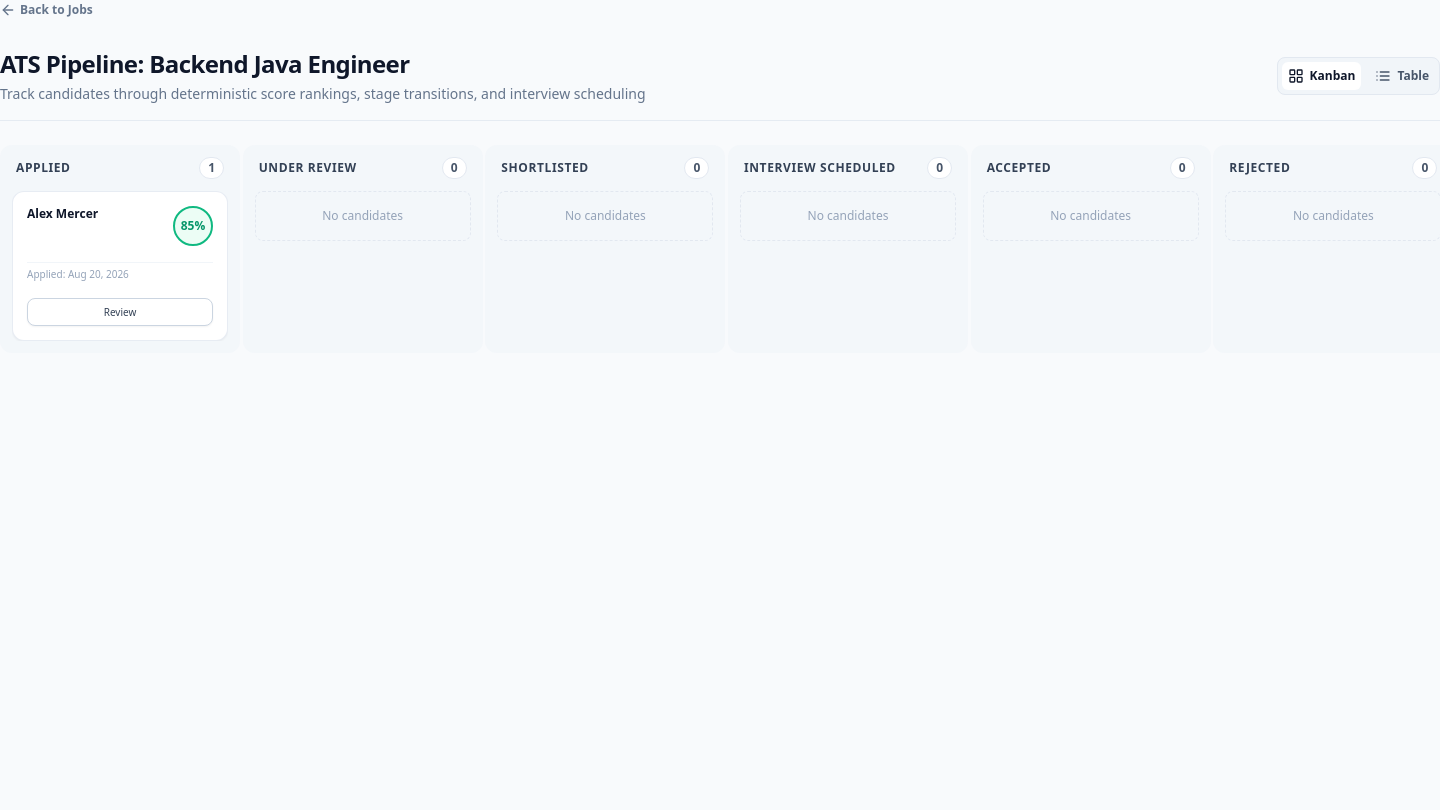
Test: Recruiter Dossier & Notes Workflow › opens dossier, enters internal note, saves successfully and persists on reopen
The width and height of the screenshot is (1440, 810).
Open Dossier by clicking the candidate card
Click the heading "Alex Mercer": (63, 214) [27,206,98,222]
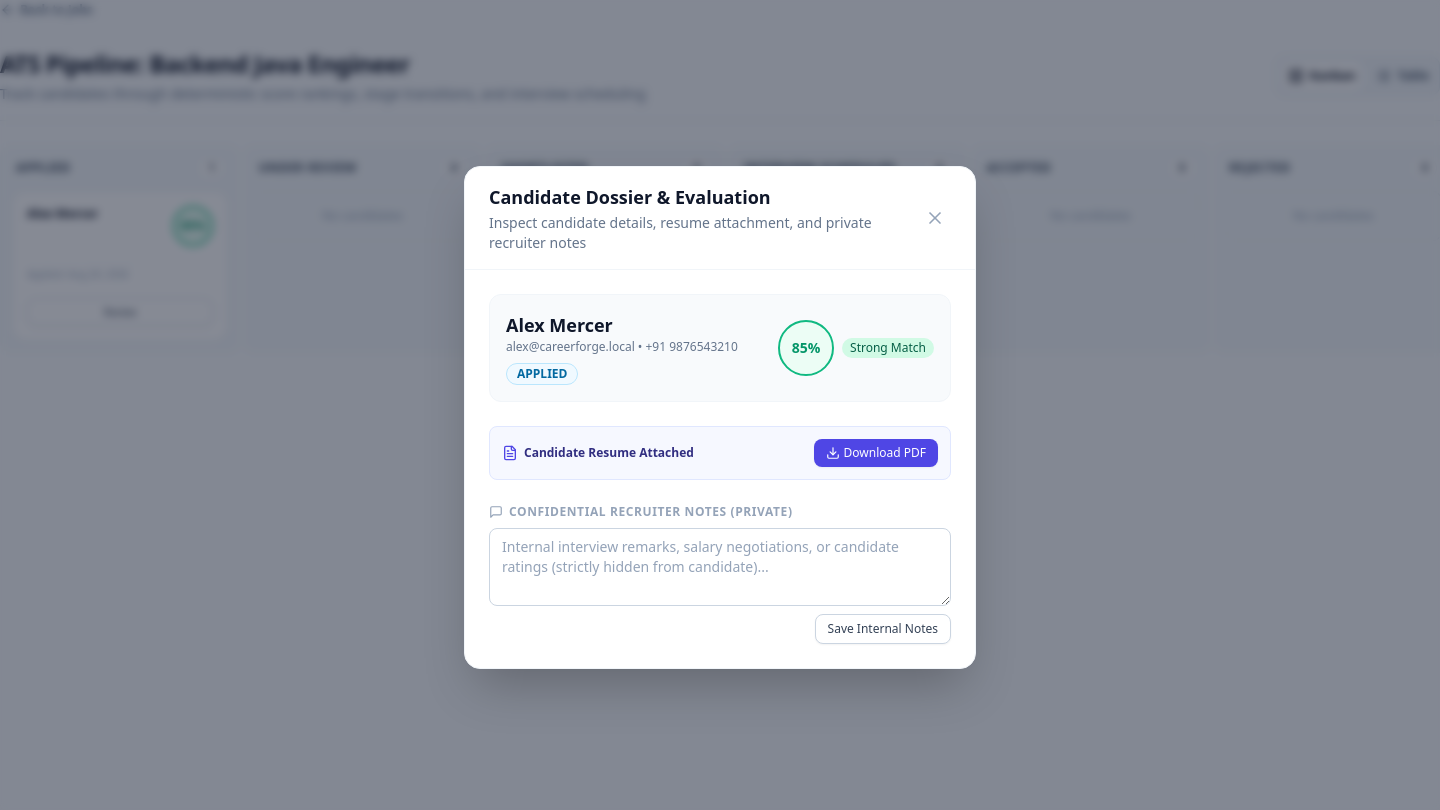
Expected: the heading "Candidate Dossier & Evaluation" is shown, [489,184,771,208]
Expected: the text box with placeholder "Internal interview remarks, salary negotiations" is shown
Enter note "Not capable"
Replace the text in the text box with placeholder "Internal interview remarks, salary negotiations" with "Not capable": (720, 566) [489,528,951,606]
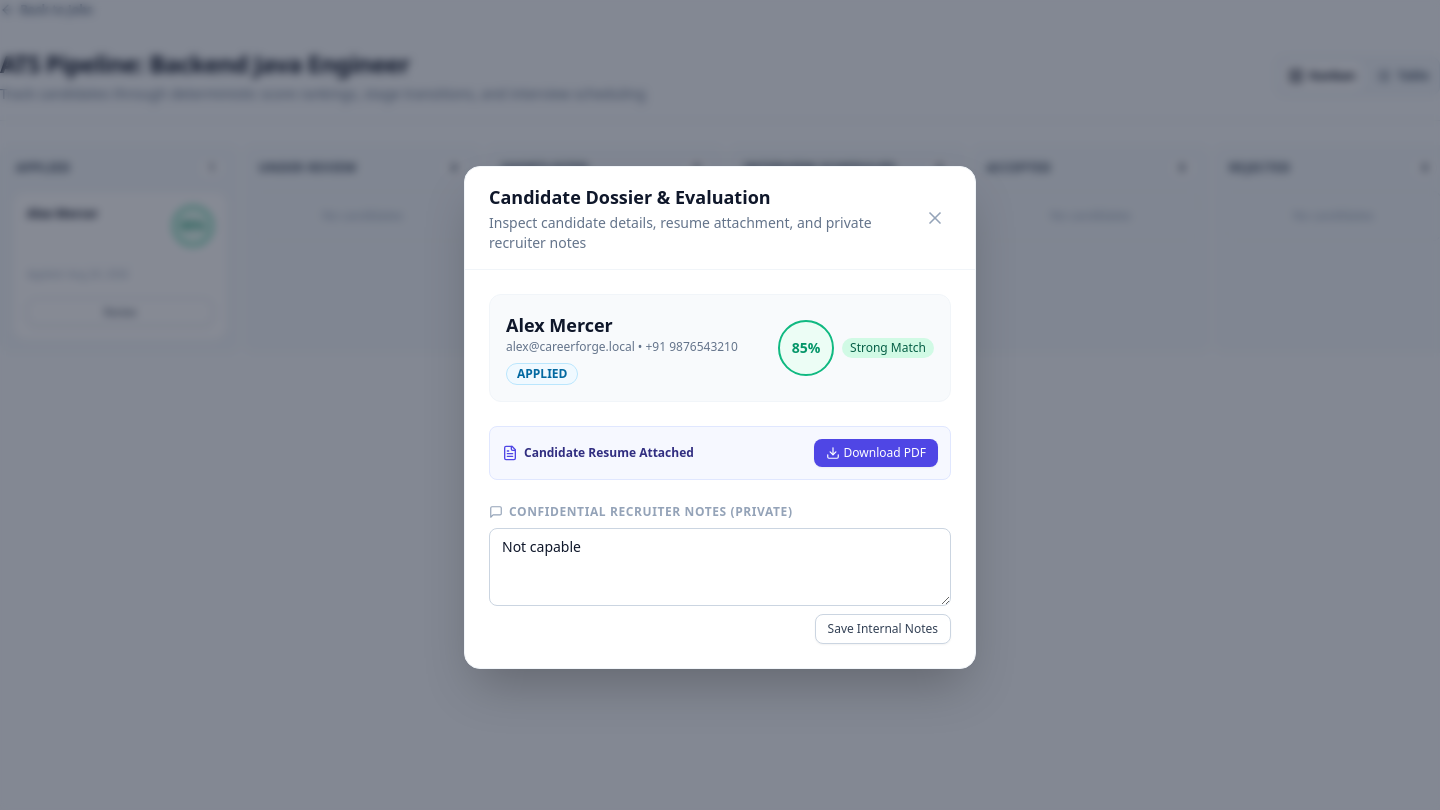
Click Save Internal Notes
Click the button "Save Internal Notes": (883, 628) [815,614,951,644]
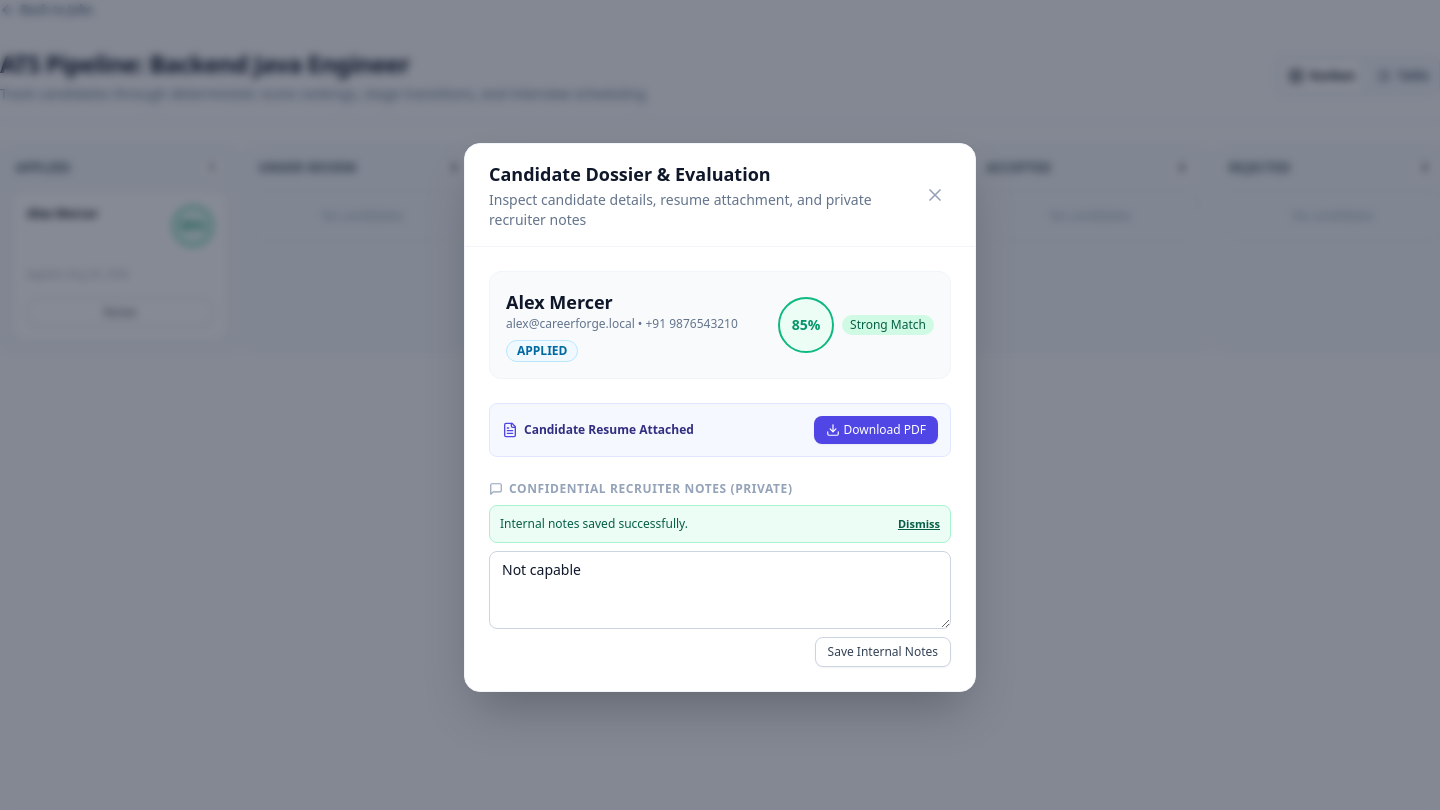
Expected: the text "Internal notes saved successfully." is shown, [500,516,688,532]
Click the 1st button: (935, 194) [919,178,951,210]
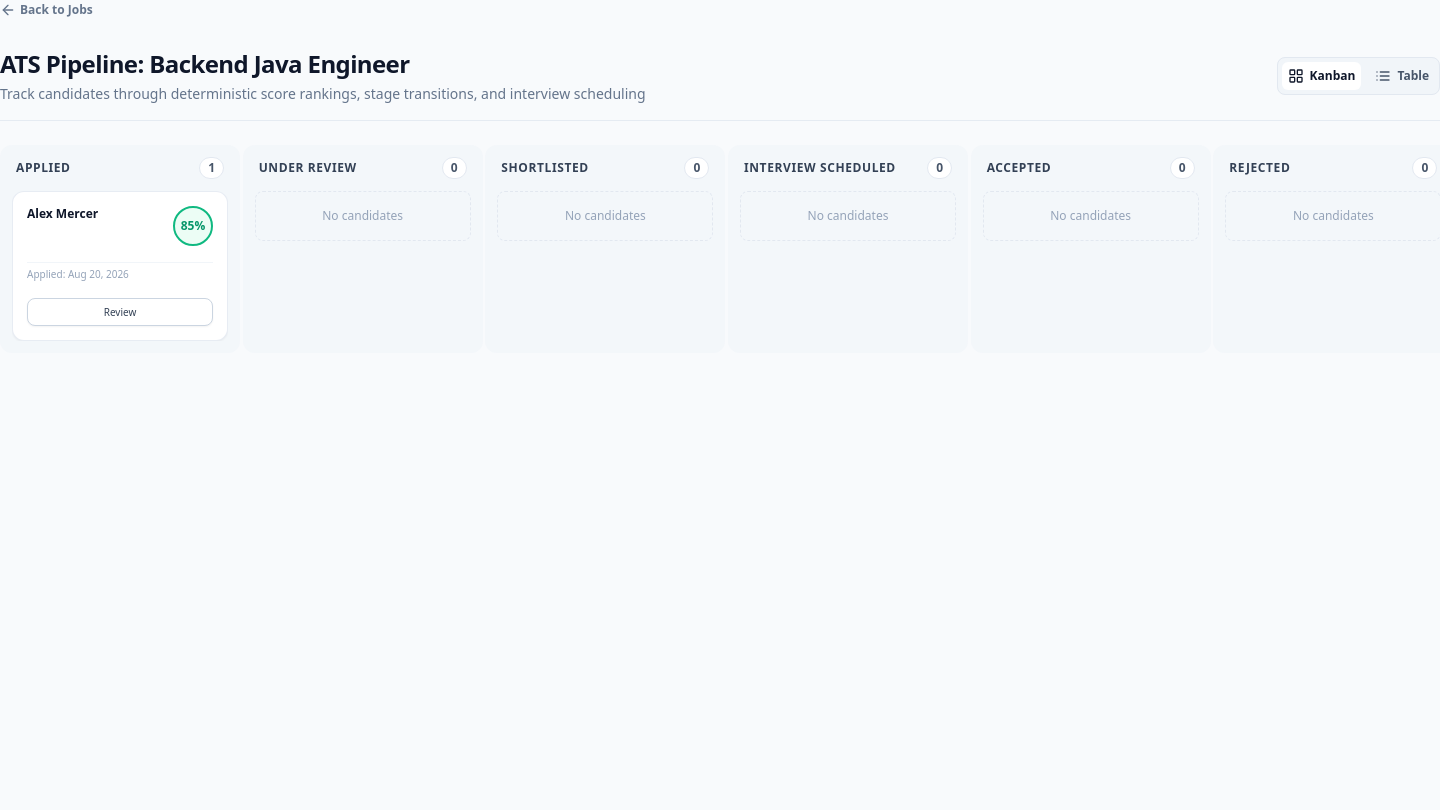
Click the heading "Alex Mercer": (63, 214) [27,206,98,222]
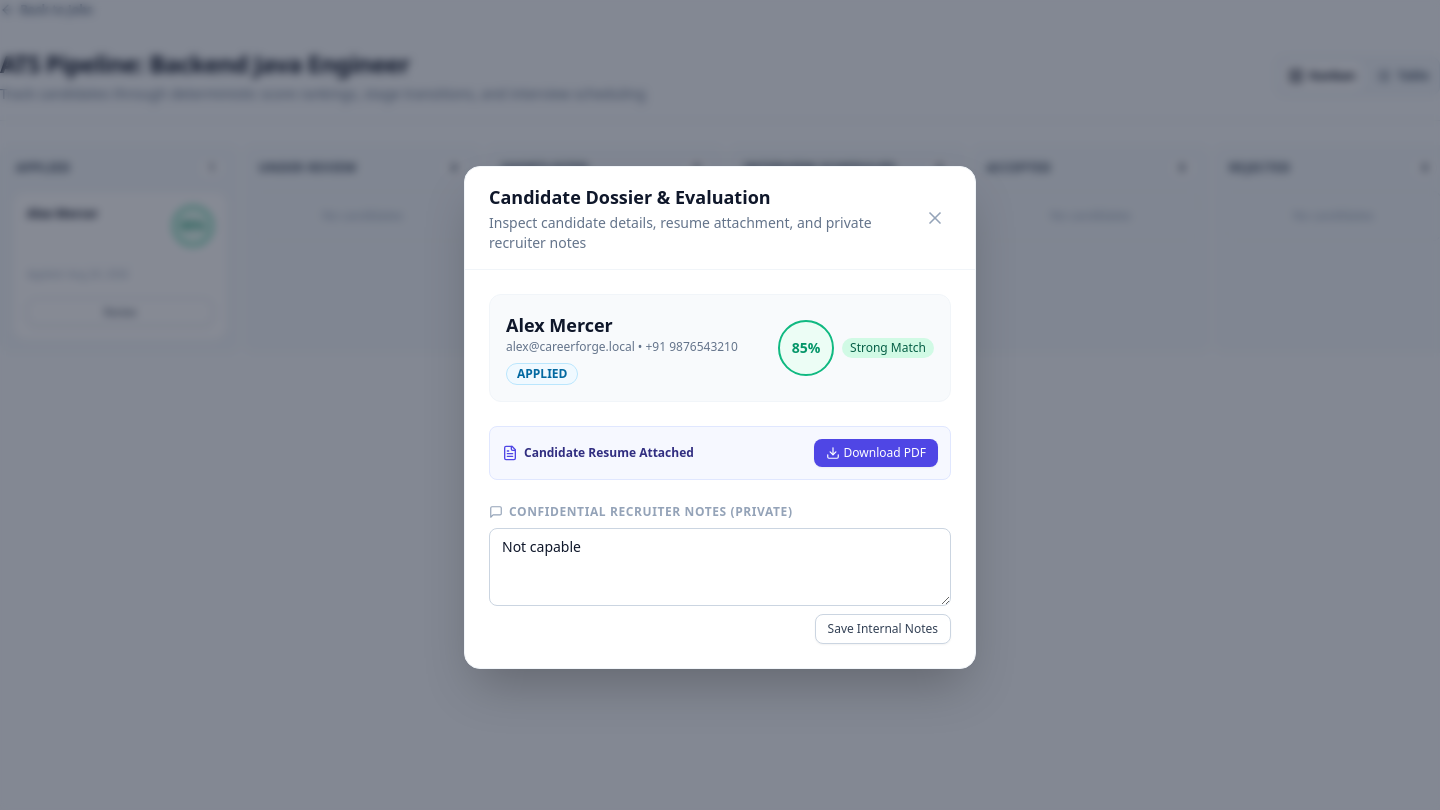
Expected: the text box with placeholder "Internal interview remarks, salary negotiations" holds "Not capable", [489,528,951,606]
